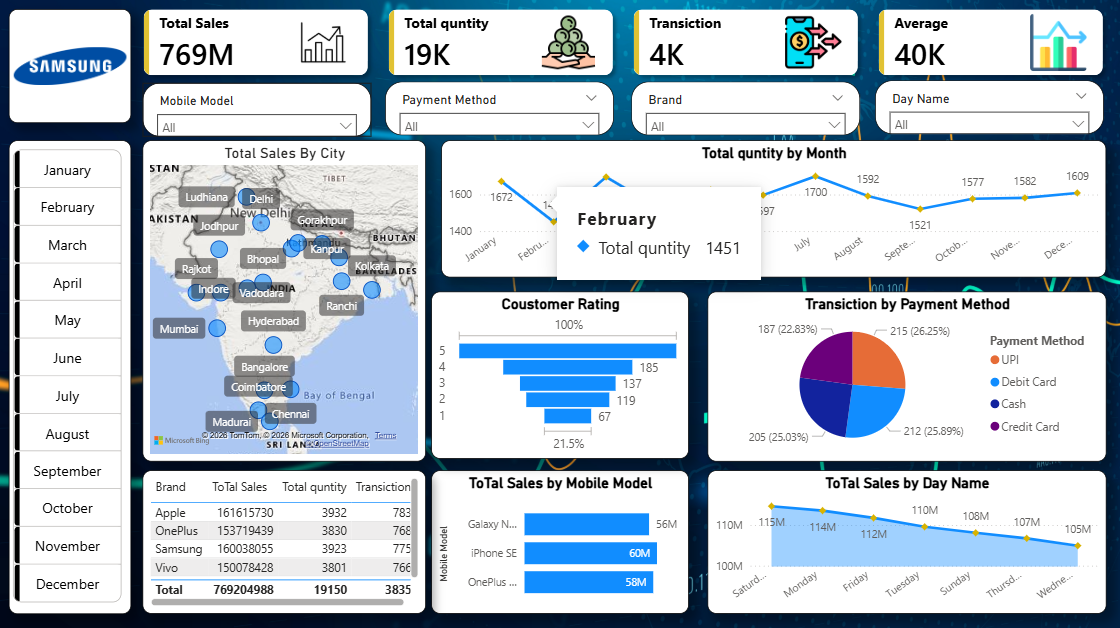

The dashboard page shown, as its layout file describes it:
{"tool":"powerbi","page":{"name":"Page 1","canvas":[1280,720],"ordinal":0},"visuals":[{"type":"shape","box":[10,11.5,140,139],"z":0},{"type":"image","box":[13,34,134,91],"z":1000},{"type":"shape","box":[10,156.5,140,558],"z":2000},{"type":"advancedSlicerVisual","fields":{"Values":["Sheet1.Date.Variation.Date Hierarchy.Month"]},"box":[10,161.5,134.5,546.5],"z":3000},{"type":"cardVisual","fields":{"Data":["Sheet1.ToTal Sales","Sheet1.Total quntity","Sheet1.Transiction","Sheet1.Averaagr"]},"box":[150,0,1130,104],"z":4000},{"type":"map","fields":{"Category":["Sheet1.City"]},"box":[162.9,161.4,324.3,364.3],"z":5000},{"type":"lineChart","fields":{"Y":["Sheet1.Total quntity"],"Category":["Sheet1.Date.Variation.Date Hierarchy.Month","Sheet1.Date.Variation.Date Hierarchy.Day"]},"box":[492.9,161.4,781.4,157.1],"z":6000},{"type":"clusteredBarChart","fields":{"Category":["Sheet1.Mobile Model","Sheet1.Date.Variation.Date Hierarchy.Month","Sheet1.Date.Variation.Date Hierarchy.Day"],"Y":["Sheet1.ToTal Sales"]},"box":[492.5,531.2,308.8,182.5],"z":7000},{"type":"pieChart","fields":{"Y":["Sheet1.Transiction"],"Category":["Sheet1.Payment Method"]},"box":[807.5,324.4,467.5,201.2],"z":8000},{"type":"funnel","title":"Coustomer Rating ","fields":{"Y":["CountNonNull(Sheet1.Customer Ratings)"],"Category":["Sheet1.Customer Ratings"]},"box":[492.5,325,308.8,200],"z":9000},{"type":"areaChart","fields":{"Category":["Sheet1.Day Name"],"Y":["Sheet1.ToTal Sales"]},"box":[807.5,531.2,467.5,182.5],"z":10000},{"type":"tableEx","fields":{"Values":["Sheet1.Brand","Sheet1.ToTal Sales","Sheet1.Total quntity","Sheet1.Transiction"]},"box":[162.8,531.7,324.4,182.8],"z":11000},{"type":"slicer","fields":{"Values":["Sheet1.Mobile Model"]},"box":[163.3,95.6,261.1,61.1],"z":12000},{"type":"slicer","fields":{"Values":["Sheet1.Payment Method"]},"box":[441.4,94.3,261.4,61.4],"z":13000},{"type":"slicer","fields":{"Values":["Sheet1.Brand"]},"box":[724.3,94.3,261.4,61.4],"z":14000},{"type":"slicer","fields":{"Values":["Sheet1.Day Name"]},"box":[1007.1,94.3,261.4,61.4],"z":15000}]}

Visuals, with their boxes in screenshot pixels (x1, y1, x2, y2), scaled from the page's 1280x720 canvas onto the 1120x628 screenshot:
shape: pyautogui.locateOnScreen(9, 10, 131, 131)
image: pyautogui.locateOnScreen(11, 30, 129, 109)
shape: pyautogui.locateOnScreen(9, 137, 131, 623)
advancedSlicerVisual - Sheet1.Date.Variation.Date Hierarchy.Month: pyautogui.locateOnScreen(9, 141, 126, 618)
cardVisual - Sheet1.ToTal Sales x Sheet1.Total quntity: pyautogui.locateOnScreen(131, 0, 1119, 91)
map - Sheet1.City: pyautogui.locateOnScreen(143, 141, 426, 459)
lineChart - Sheet1.Total quntity x Sheet1.Date.Variation.Date Hierarchy.Month: pyautogui.locateOnScreen(431, 141, 1115, 278)
clusteredBarChart - Sheet1.Mobile Model x Sheet1.Date.Variation.Date Hierarchy.Month: pyautogui.locateOnScreen(431, 463, 701, 623)
pieChart - Sheet1.Transiction x Sheet1.Payment Method: pyautogui.locateOnScreen(707, 283, 1116, 458)
"Coustomer Rating " funnel: pyautogui.locateOnScreen(431, 283, 701, 458)
areaChart - Sheet1.Day Name x Sheet1.ToTal Sales: pyautogui.locateOnScreen(707, 463, 1116, 623)
tableEx - Sheet1.Brand x Sheet1.ToTal Sales: pyautogui.locateOnScreen(142, 464, 426, 623)
slicer - Sheet1.Mobile Model: pyautogui.locateOnScreen(143, 83, 371, 137)
slicer - Sheet1.Payment Method: pyautogui.locateOnScreen(386, 82, 615, 136)
slicer - Sheet1.Brand: pyautogui.locateOnScreen(634, 82, 862, 136)
slicer - Sheet1.Day Name: pyautogui.locateOnScreen(881, 82, 1110, 136)
